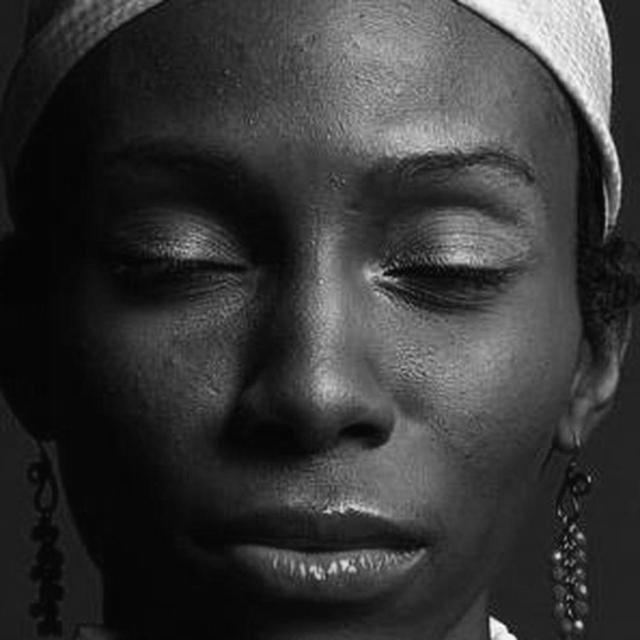real: (43, 0, 561, 622), (70, 164, 560, 344)
